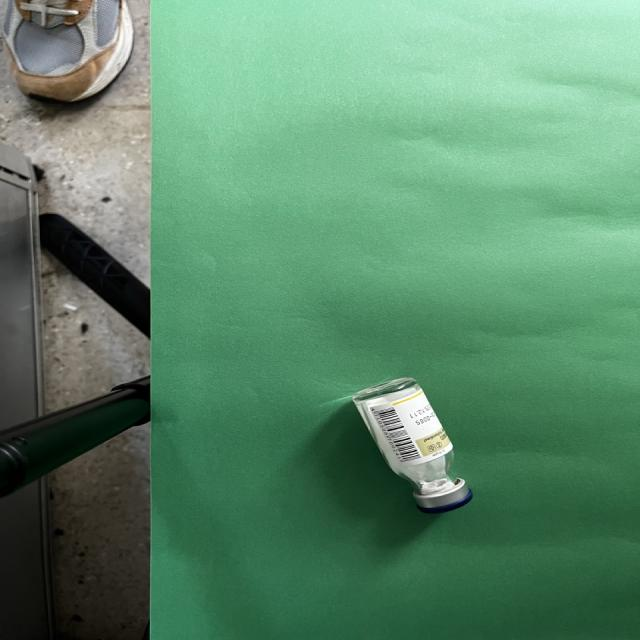Vials: (353, 378, 472, 514)
